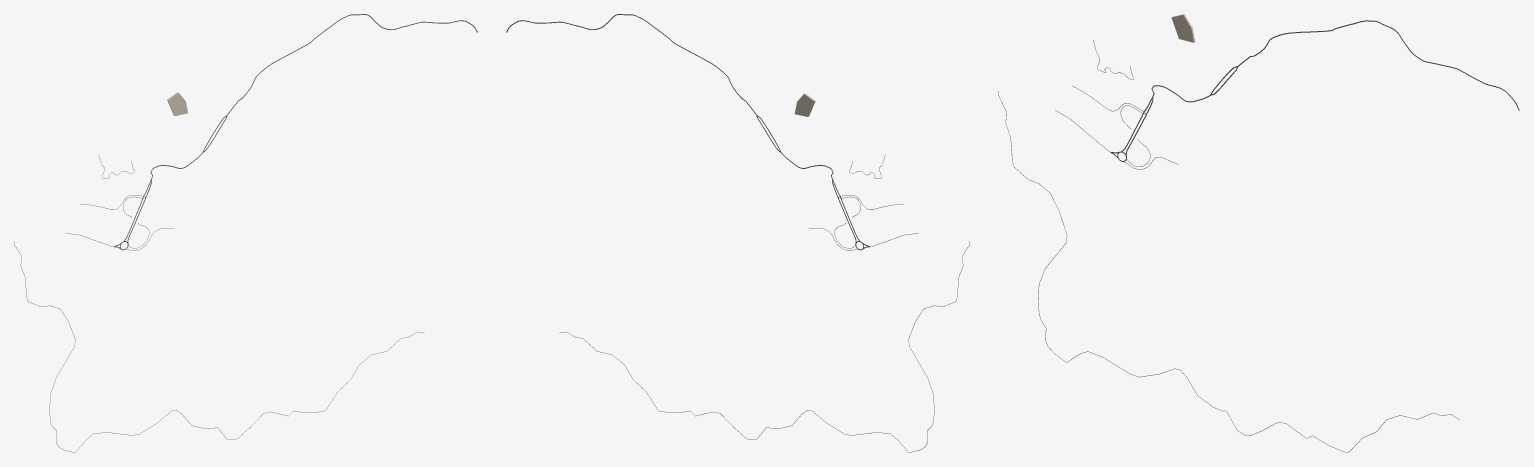
The model's file is historic-palestine-12_24_3536_3181.glb.
3 renders of one model, left to right at view 1: azimuth 30°, elevation 25°; view 2: azimuth 150°, elevation 25°; view 3: azimuth 330°, elevation 25°, orthographic. The views are drawn at different scales.
Visible parts, largest first — view 1: Road .014, Road .005; view 2: Road .014, Road .005; view 3: Road .014, Road .005.
Boxes of the visible parts, <box> form: Road .014: <box>14,241,424,452</box>; Road .005: <box>150,14,477,178</box>; Road .014: <box>559,241,969,452</box>; Road .005: <box>506,14,833,178</box>; Road .014: <box>998,91,1459,452</box>; Road .005: <box>1151,20,1519,110</box>.
Size of the model in its own units: 1760 by 1440 by 8.7.
